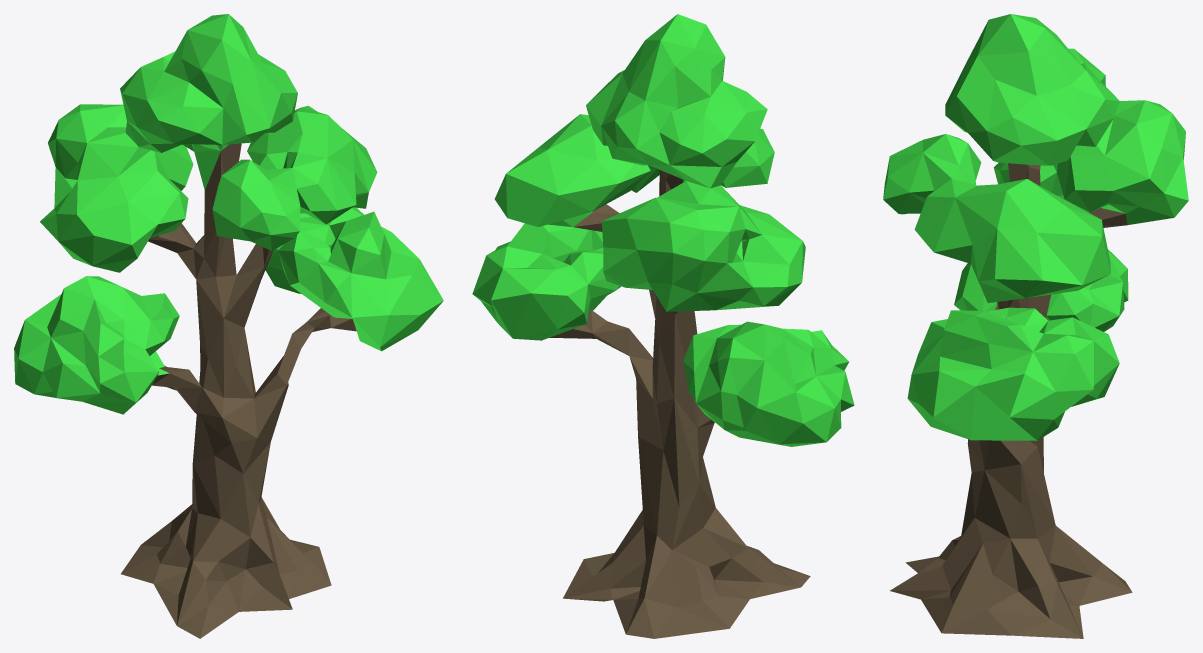
The model's file is Tree_2-col.glb.
3 renders of one model, left to right at view 1: azimuth 30°, elevation 25°; view 2: azimuth 150°, elevation 25°; view 3: azimuth 270°, elevation 25°, orthographic. The views are drawn at different scales.
Visible parts, largest first — view 1: geometry_0.002; view 2: geometry_0.002; view 3: geometry_0.002.
Part boxes in pixels (box(x1,y1,x2,y2)): geometry_0.002: box(14, 14, 443, 638); geometry_0.002: box(472, 14, 854, 638); geometry_0.002: box(883, 14, 1188, 638).
Size of the model in its own units: 1.36 by 1.99 by 0.9389.
